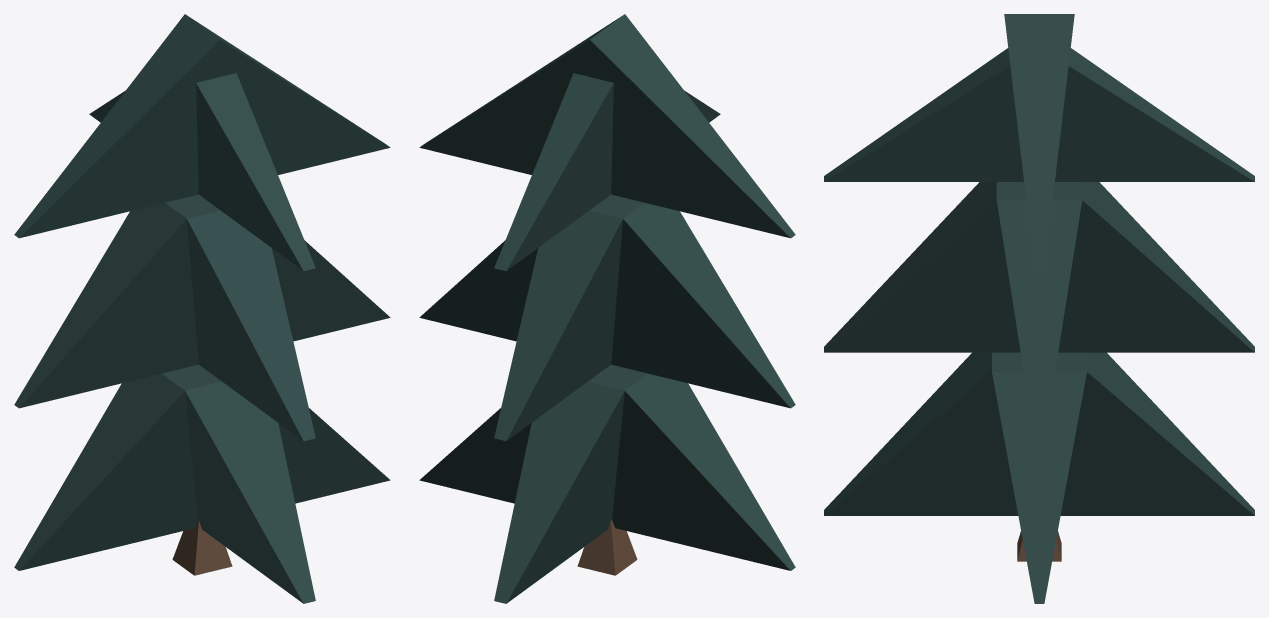
The model's file is 048 Xmas_Tree.fbx.
3 views of the same model, side by side, from view 1: azimuth 30°, elevation 25°; view 2: azimuth 150°, elevation 25°; view 3: azimuth 270°, elevation 25° (orthographic).
Parts seen in each view (by area): view 1: Lowpoly_Christmas_Pack_048:pCube5; view 2: Lowpoly_Christmas_Pack_048:pCube5; view 3: Lowpoly_Christmas_Pack_048:pCube5.
Part boxes in pixels (<box>): Lowpoly_Christmas_Pack_048:pCube5: <box>14,14,390,603</box>; Lowpoly_Christmas_Pack_048:pCube5: <box>419,14,795,603</box>; Lowpoly_Christmas_Pack_048:pCube5: <box>824,14,1254,603</box>.
Size of the model in its own units: 2.17 by 2.99 by 2.17.
